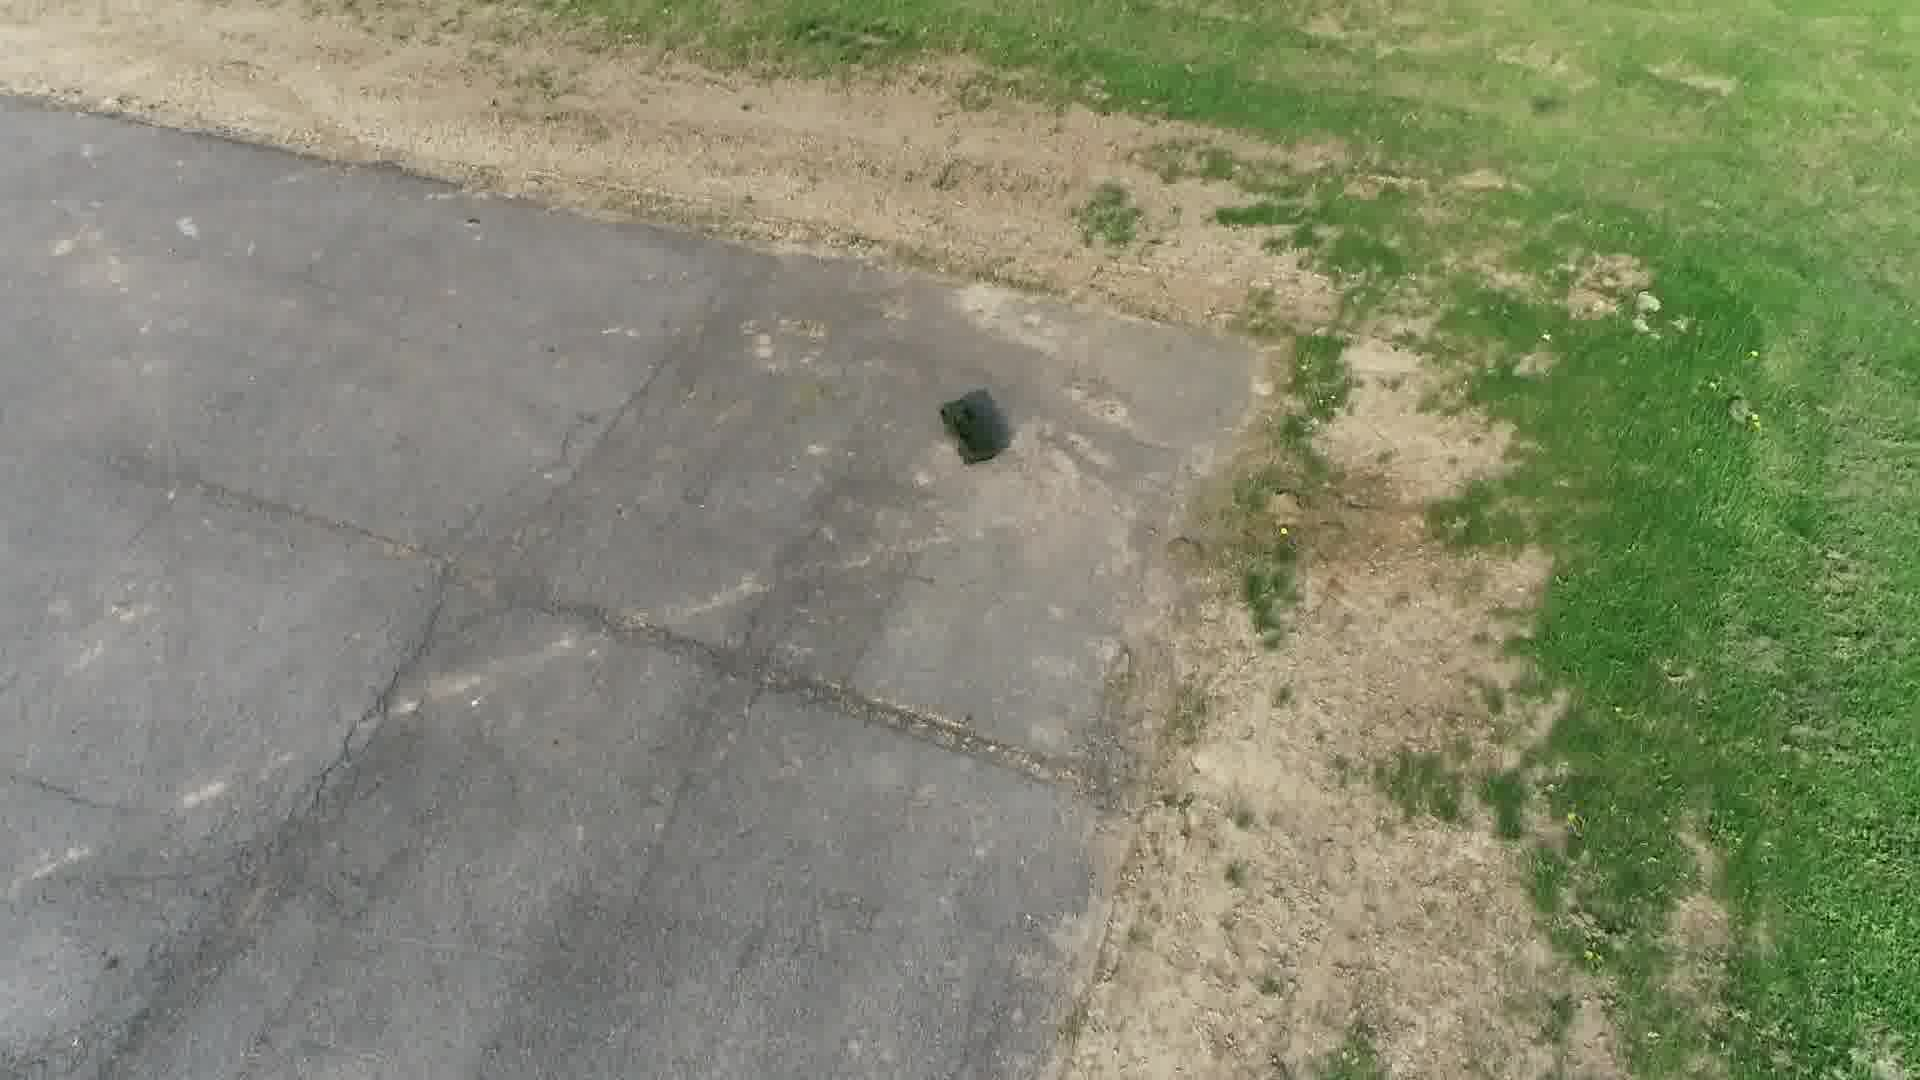transporter9: (936, 396, 1002, 468)
